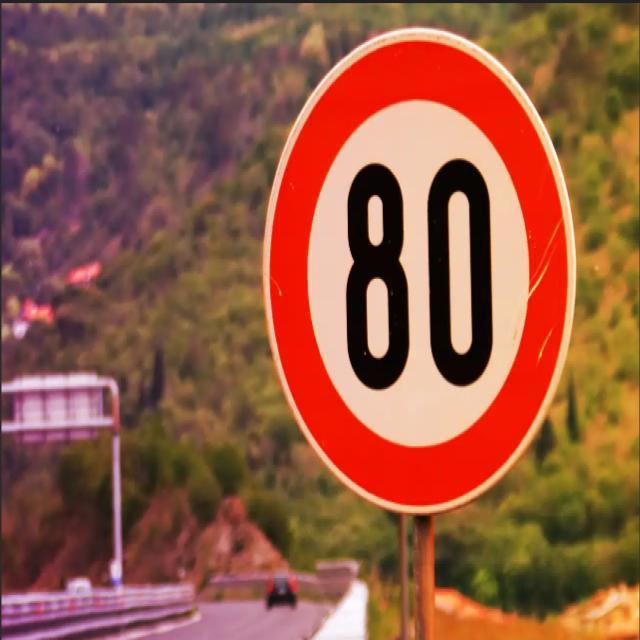forb_speed_over_80: (260, 25, 579, 516)
